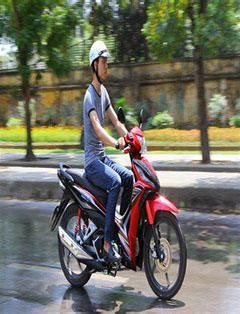motorcycle: (41, 102, 196, 308)
